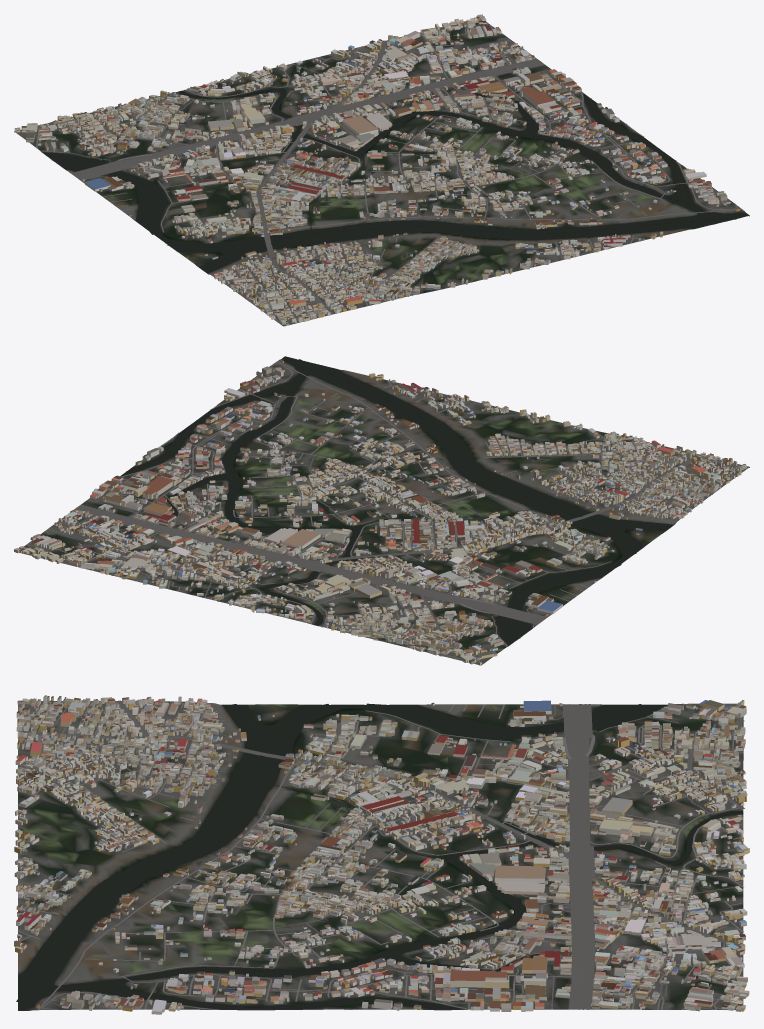
3 views of the same model, one above another, from view 1: azimuth 30°, elevation 25°; view 2: azimuth 150°, elevation 25°; view 3: azimuth 270°, elevation 25° (orthographic). The views are drawn at different scales.
Parts seen in each view (by area): view 1: buildings, ground, water, roads; view 2: buildings, ground, water, roads; view 3: buildings, ground, water, roads.
Boxes of the visible parts, bbox=[...] form: buildings: bbox=[14, 14, 739, 325]; ground: bbox=[14, 21, 749, 325]; water: bbox=[42, 89, 748, 273]; roads: bbox=[16, 21, 742, 326]; buildings: bbox=[14, 360, 746, 665]; ground: bbox=[19, 358, 749, 665]; water: bbox=[120, 356, 673, 645]; roads: bbox=[26, 361, 749, 664]; buildings: bbox=[14, 695, 749, 1014]; ground: bbox=[18, 700, 743, 1010]; water: bbox=[16, 703, 743, 1010]; roads: bbox=[17, 700, 744, 1010].
Size of the model in its own units: 1427 by 30.89 by 1421.
